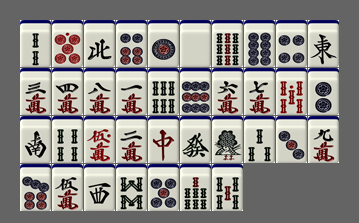0m: (84, 116, 115, 163)
0p: (52, 20, 83, 67)
0s: (276, 68, 307, 115)
1m: (116, 68, 147, 115)
1p: (148, 20, 179, 67)
1s: (212, 116, 243, 163)
1z: (308, 20, 339, 67)
2m: (116, 116, 147, 163)
2p: (308, 68, 339, 115)
2s: (20, 20, 51, 67)
2z: (20, 116, 51, 163)
3m: (20, 68, 51, 115)
3p: (276, 116, 307, 163)
3s: (244, 116, 275, 163)
3z: (84, 164, 115, 211)
4m: (52, 68, 83, 115)
4p: (276, 20, 307, 67)
4s: (52, 116, 83, 163)
4z: (84, 20, 115, 67)
5m: (52, 164, 83, 211)
5p: (148, 164, 179, 211)
5s: (212, 164, 243, 211)
5z: (180, 20, 211, 67)
6m: (212, 68, 243, 115)
6p: (116, 20, 147, 67)
6s: (148, 68, 179, 115)
6z: (180, 116, 211, 163)
7m: (244, 68, 275, 115)
7p: (20, 164, 51, 211)
7s: (180, 164, 211, 211)
7z: (148, 116, 179, 163)
8m: (84, 68, 115, 115)
8p: (244, 20, 275, 67)
8s: (116, 164, 147, 211)
9m: (308, 116, 339, 163)
9p: (180, 68, 211, 115)
9s: (212, 20, 243, 67)
